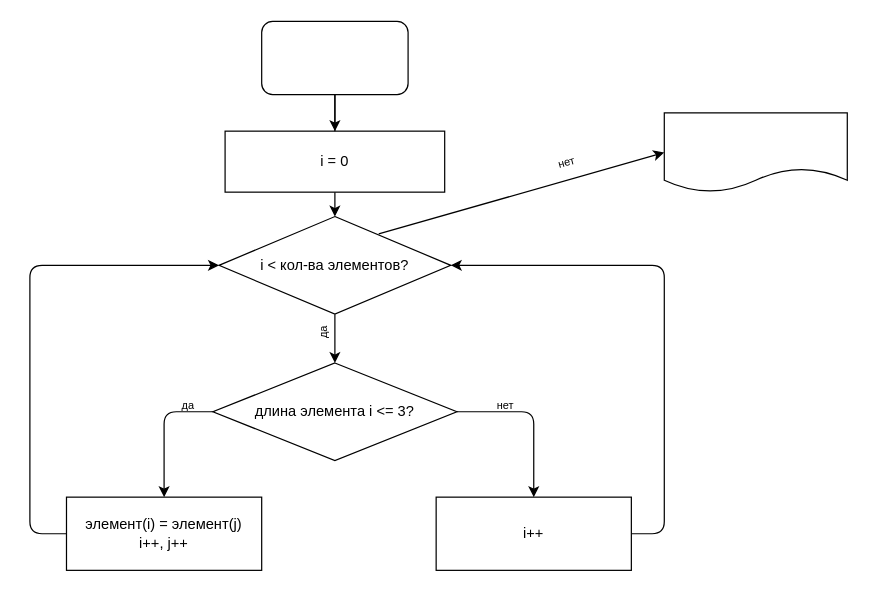
Image size: 869x592. Some labels were removed from this diagram. The centre of each missing label's shape, as x and y in pixels:
ввод данных: the point at 334,57
вывод элементов(j): the point at 755,152
